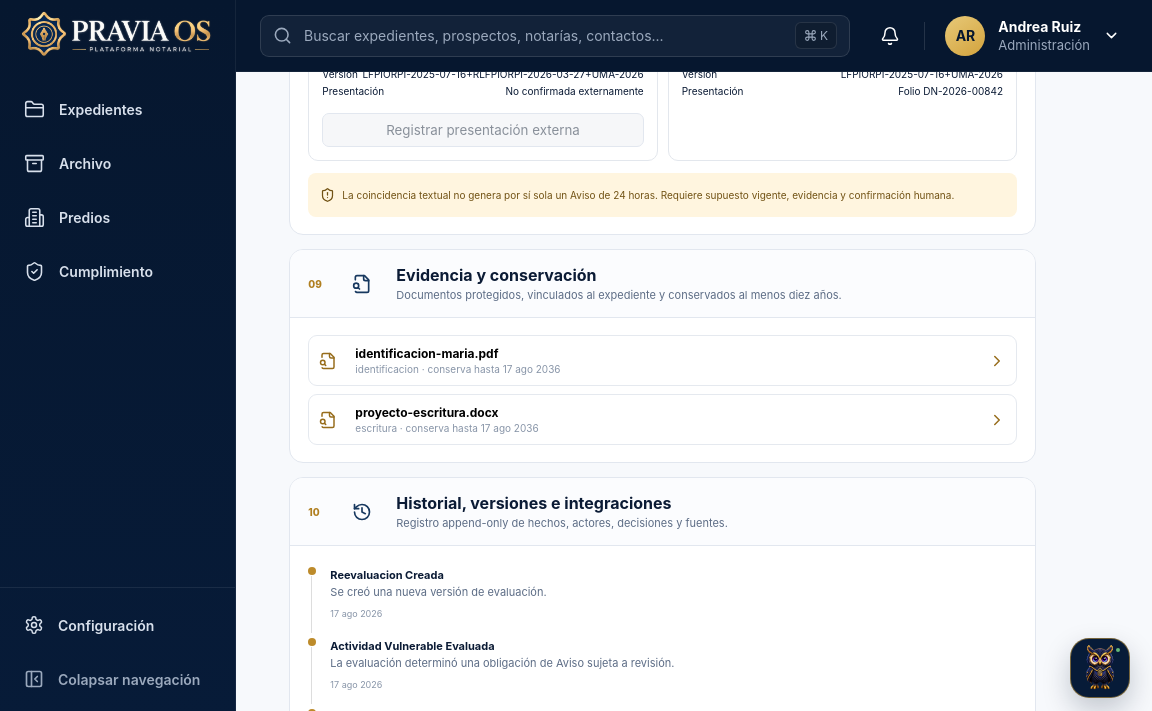
Test case: Cumplimiento canónico › abre evidencia en el visor compartido sin Storage paralelo
(page scrolled)
What coordinates should you click on to do the following:
click the button "identificacion-maria.pdf"
I would click on:
 (427, 354)
Its box is [308,335,1017,386].
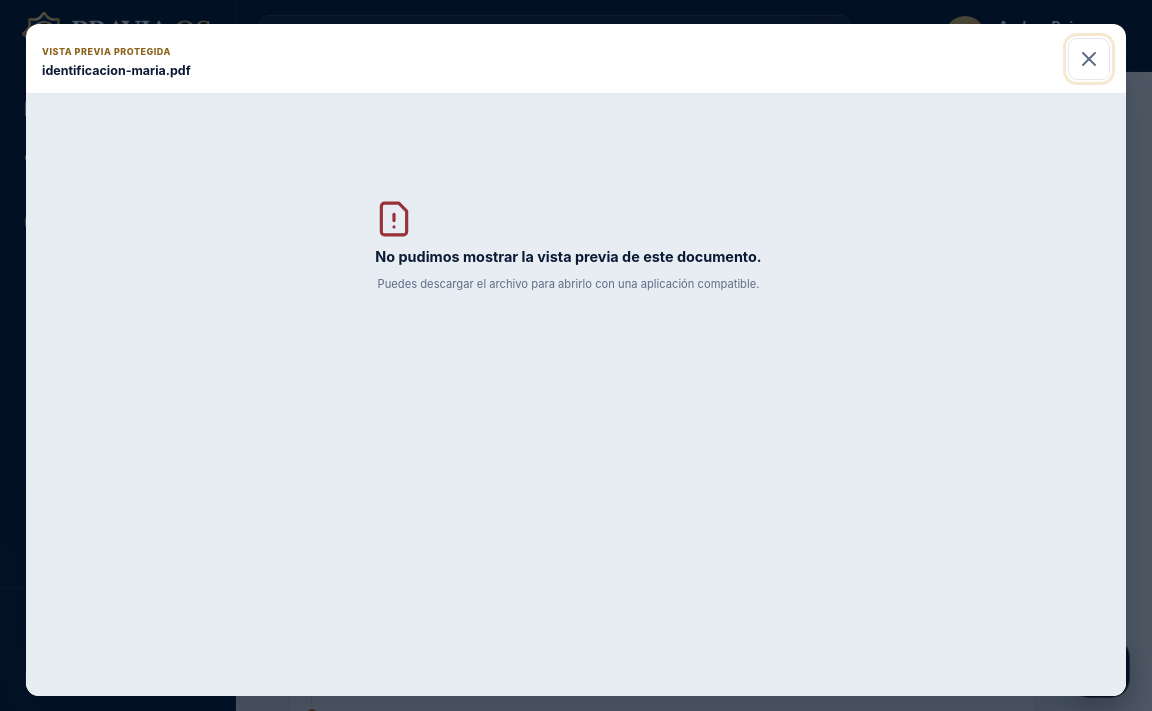
Now the dialog is shown
Now the heading "identificacion-maria.pdf" is shown, box [42,63,191,78]
